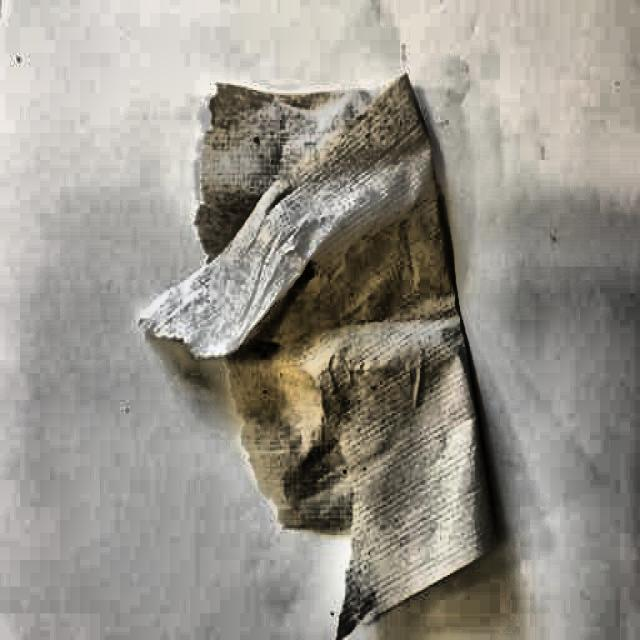trash: (183, 64, 499, 610)
